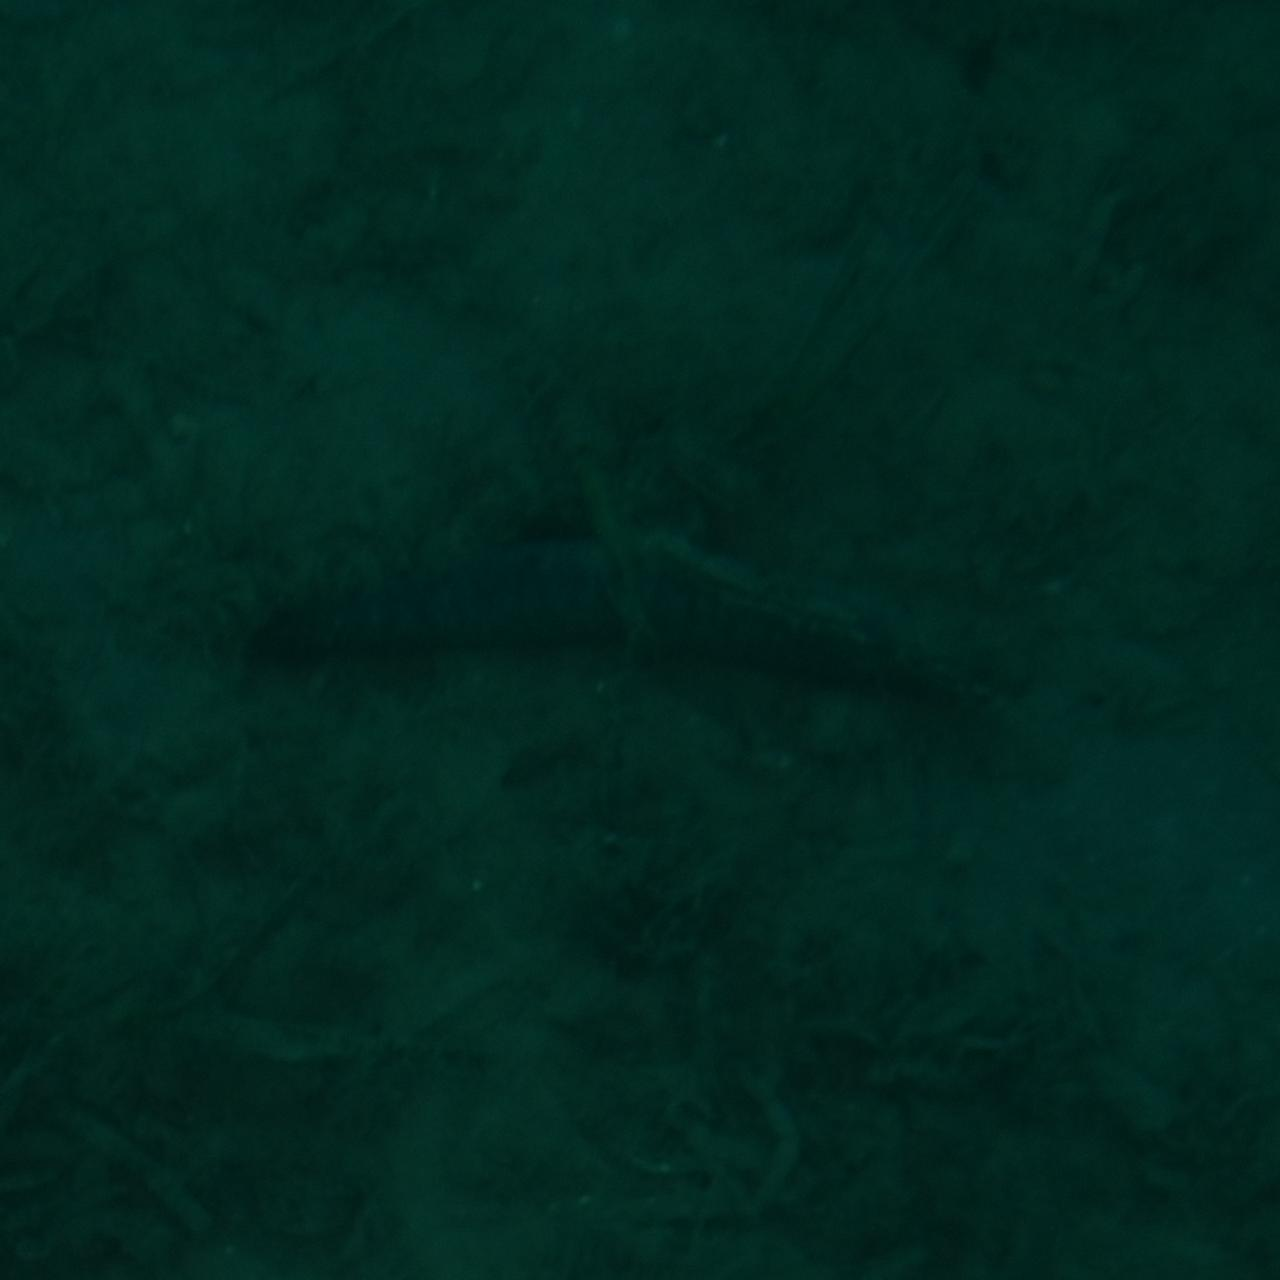Holothuria tubulosa: (238, 528, 1042, 752)
